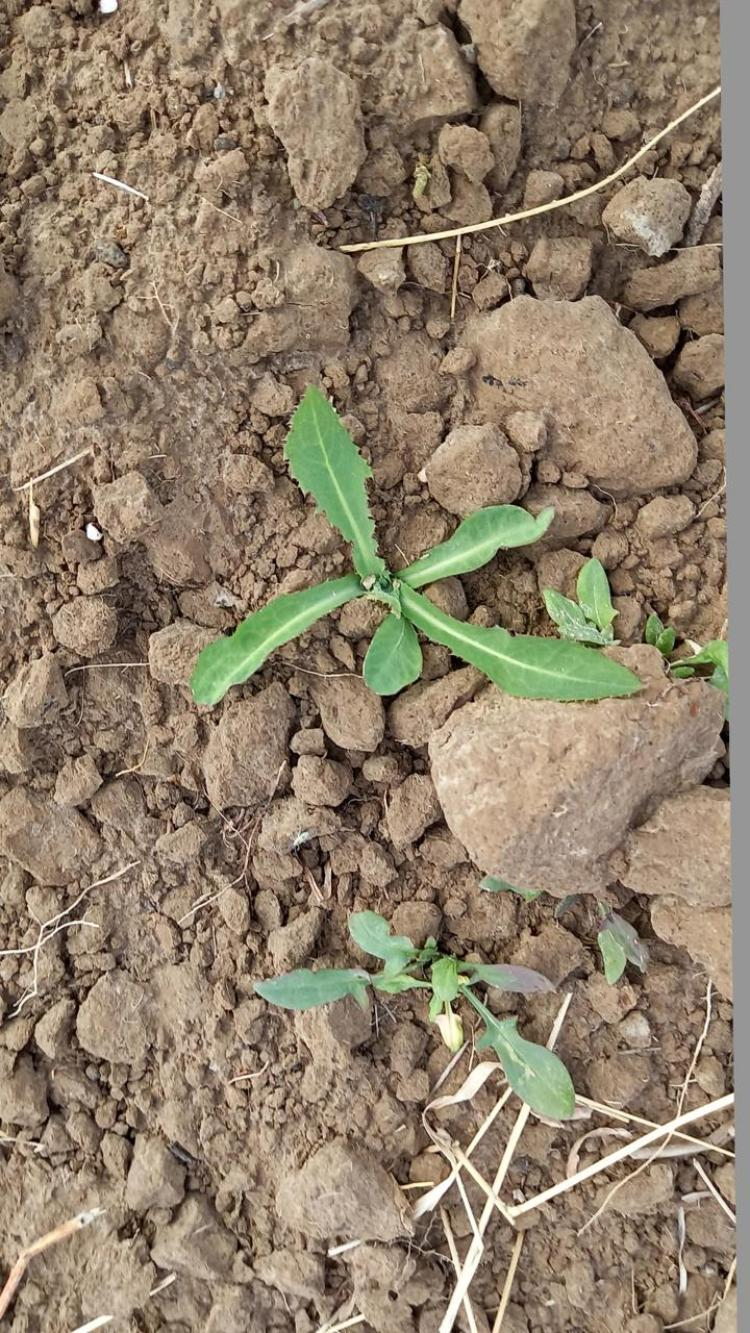osot: (190, 375, 654, 748)
